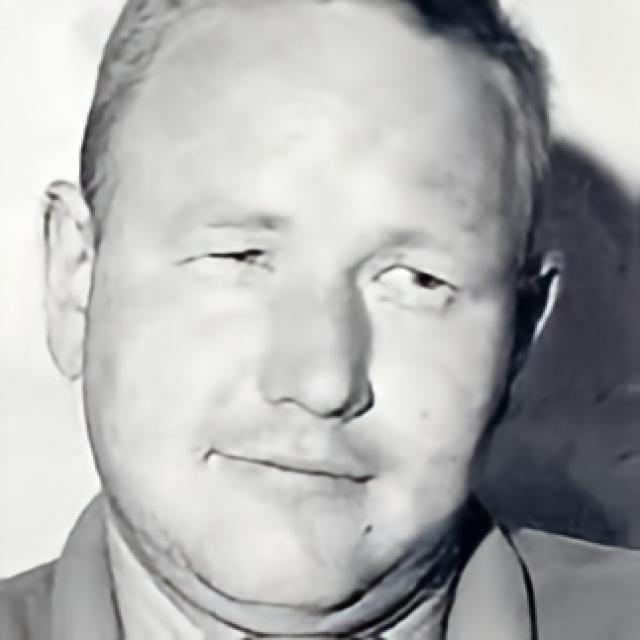content: (85, 0, 522, 607)
